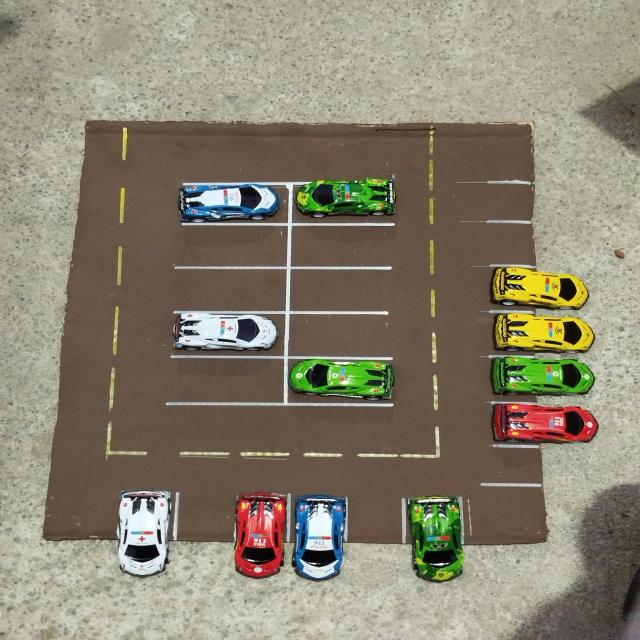libre: (166, 358, 286, 404), (172, 266, 288, 312), (173, 224, 290, 269), (472, 221, 588, 266), (287, 312, 399, 358), (288, 267, 398, 312), (288, 224, 397, 268), (348, 492, 403, 578), (174, 492, 230, 575), (470, 180, 588, 219), (42, 493, 118, 540), (480, 447, 564, 485)
no_estacionarse: (468, 483, 550, 544)
ocupado: (477, 266, 603, 312), (229, 489, 290, 581), (286, 357, 397, 406), (406, 493, 468, 580), (483, 310, 602, 355), (169, 312, 287, 357), (478, 356, 595, 400), (292, 490, 348, 580), (482, 402, 599, 445), (118, 489, 176, 575), (174, 183, 289, 224), (290, 182, 398, 224)
